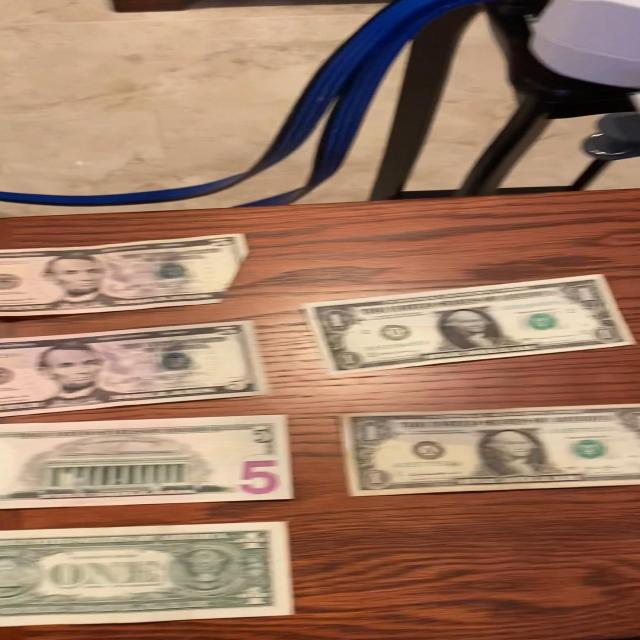1-Back: (6, 522, 307, 628)
1-Front: (303, 268, 640, 379), (335, 404, 640, 503)
5-Back: (1, 411, 308, 513)
5-Front: (0, 320, 280, 418), (0, 232, 257, 320)
